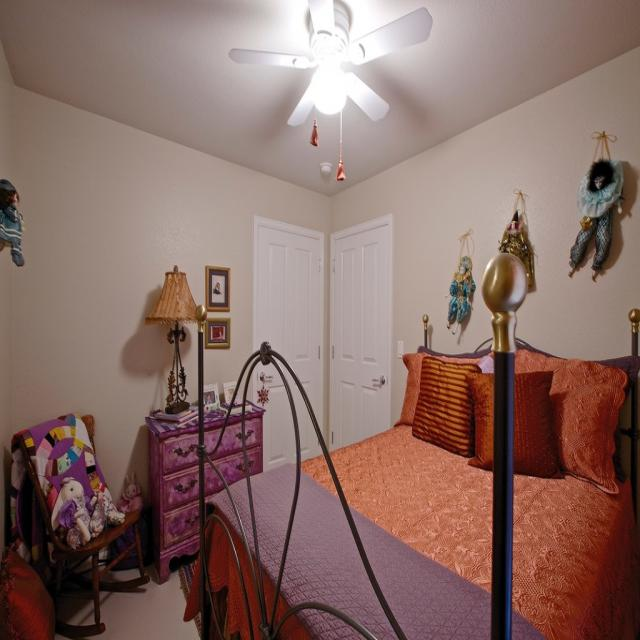Bulb: (230, 0, 428, 180)
